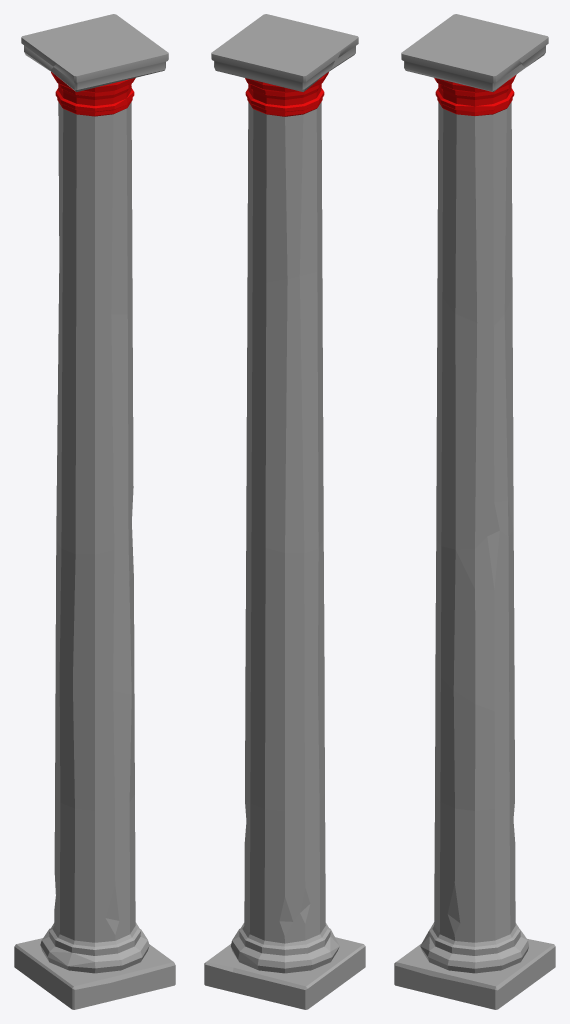
The model's file is SM_Bld_Pillar_Large_01.fbx.
3 renders of one model, left to right at view 1: azimuth 30°, elevation 25°; view 2: azimuth 150°, elevation 25°; view 3: azimuth 330°, elevation 25°, orthographic.
Visible parts, largest first — view 1: SM_Bld_Pillar_Large_01; view 2: SM_Bld_Pillar_Large_01; view 3: SM_Bld_Pillar_Large_01.
Part boxes in pixels (bbox=[...]): SM_Bld_Pillar_Large_01: bbox=[14, 14, 175, 1009]; SM_Bld_Pillar_Large_01: bbox=[204, 14, 365, 1009]; SM_Bld_Pillar_Large_01: bbox=[394, 14, 555, 1009].
Bounding box in the file's own units: 69.73 × 600 × 69.73.
